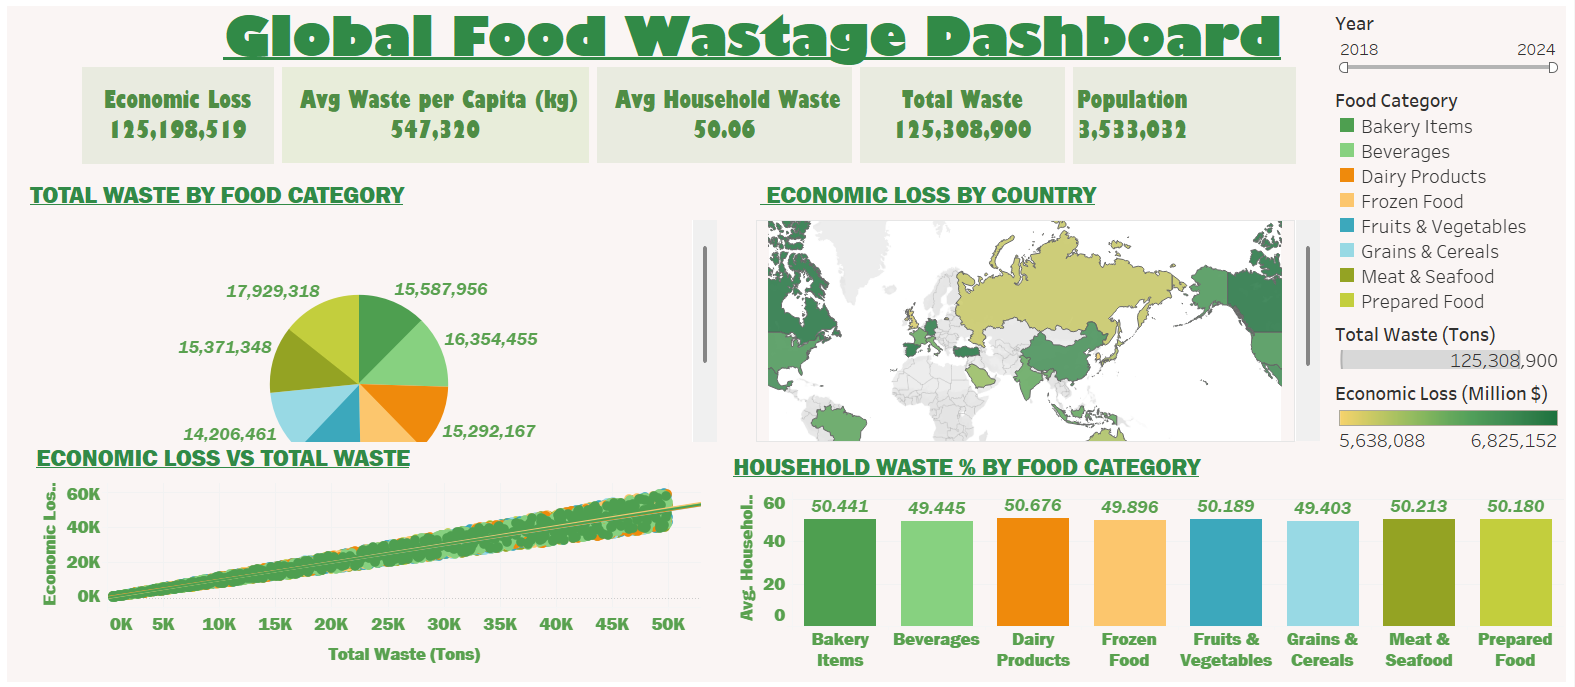

The dashboard page shown, as its layout file describes it:
{"tool":"tableau","page":{"name":"Dashboard 1","canvas":[1000,1000],"units":"permille","ordinal":0},"visuals":[{"type":"filter","title":"KPI","param":"[federated.0u0f0v20a8p3p9155ntvw0yaqa1w].[none:Year:qk]","box":[867.9,11.6,127,111.3]},{"type":"text","box":[74.9,14.5,807,83.8]},{"type":"worksheet","title":"kpi","mark":"Automatic","box":[11.4,99.7,127,153.2]},{"type":"worksheet","title":"KPI","mark":"Automatic","box":[138.4,99.7,200,153.2]},{"type":"worksheet","title":"kpi2","mark":"Automatic","box":[338.4,99.7,167,153.2]},{"type":"worksheet","title":"kpi3","mark":"Automatic","box":[505.4,99.7,135.2,153.2]},{"type":"worksheet","title":"kpi4","mark":"Automatic","box":[640.6,99.7,146,153.2]},{"type":"legend","title":"TOTALWASTE FOODCATEGRY","param":"[federated.0u0f0v20a8p3p9155ntvw0yaqa1w].[none:Food Category:nk]","box":[867.9,122.8,127,338.2]},{"type":"worksheet","title":"TOTALWASTE FOODCATEGRY","mark":"Pie","box":[14.6,252.9,463.5,394.5]},{"type":"worksheet","title":"ECO LOSS  BY COUNTRY ","mark":"Automatic","box":[478.1,252.9,370.2,394.5]},{"type":"legend","title":"TOTALWASTE FOODCATEGRY","param":"[federated.0u0f0v20a8p3p9155ntvw0yaqa1w].[sum:Total Waste (Tons):qk]","box":[867.9,461,127,85.3]},{"type":"legend","title":"ECO LOSS  BY COUNTRY ","param":"[federated.0u0f0v20a8p3p9155ntvw0yaqa1w].[sum:Economic Loss (Million $):qk]","box":[867.9,546.2,127,117]},{"type":"worksheet","title":"ECONOMIC LOSS VS TOTAL WASTE","mark":"Automatic","rows":["Economic Loss (Million $)"],"cols":["Total Waste (Tons)"],"box":[20.9,638.7,424.8,335.3]},{"type":"worksheet","title":"household waste perc by food category","mark":"Automatic","rows":["Household Waste (%)"],"cols":["Food Category"],"box":[463.5,651.7,500.3,326.6]}]}

Visuals, with their boxes on the dashboard's canvas, which has no fixed pixel size, in thousandths of its width and height (x1, y1, x2, y2). These are canvas units, not pixel positions in the 1575x687 screenshot, which may show the page scaled, cropped or inside an application window:
"KPI" filter: (left=868, top=12, right=995, bottom=123)
text: (left=75, top=14, right=882, bottom=98)
"kpi" worksheet: (left=11, top=100, right=138, bottom=253)
"KPI" worksheet: (left=138, top=100, right=338, bottom=253)
"kpi2" worksheet: (left=338, top=100, right=505, bottom=253)
"kpi3" worksheet: (left=505, top=100, right=641, bottom=253)
"kpi4" worksheet: (left=641, top=100, right=787, bottom=253)
"TOTALWASTE FOODCATEGRY" legend: (left=868, top=123, right=995, bottom=461)
"TOTALWASTE FOODCATEGRY" worksheet (Pie marks): (left=15, top=253, right=478, bottom=647)
"ECO LOSS  BY COUNTRY " worksheet: (left=478, top=253, right=848, bottom=647)
"TOTALWASTE FOODCATEGRY" legend: (left=868, top=461, right=995, bottom=546)
"ECO LOSS  BY COUNTRY " legend: (left=868, top=546, right=995, bottom=663)
"ECONOMIC LOSS VS TOTAL WASTE" worksheet: (left=21, top=639, right=446, bottom=974)
"household waste perc by food category" worksheet: (left=464, top=652, right=964, bottom=978)
